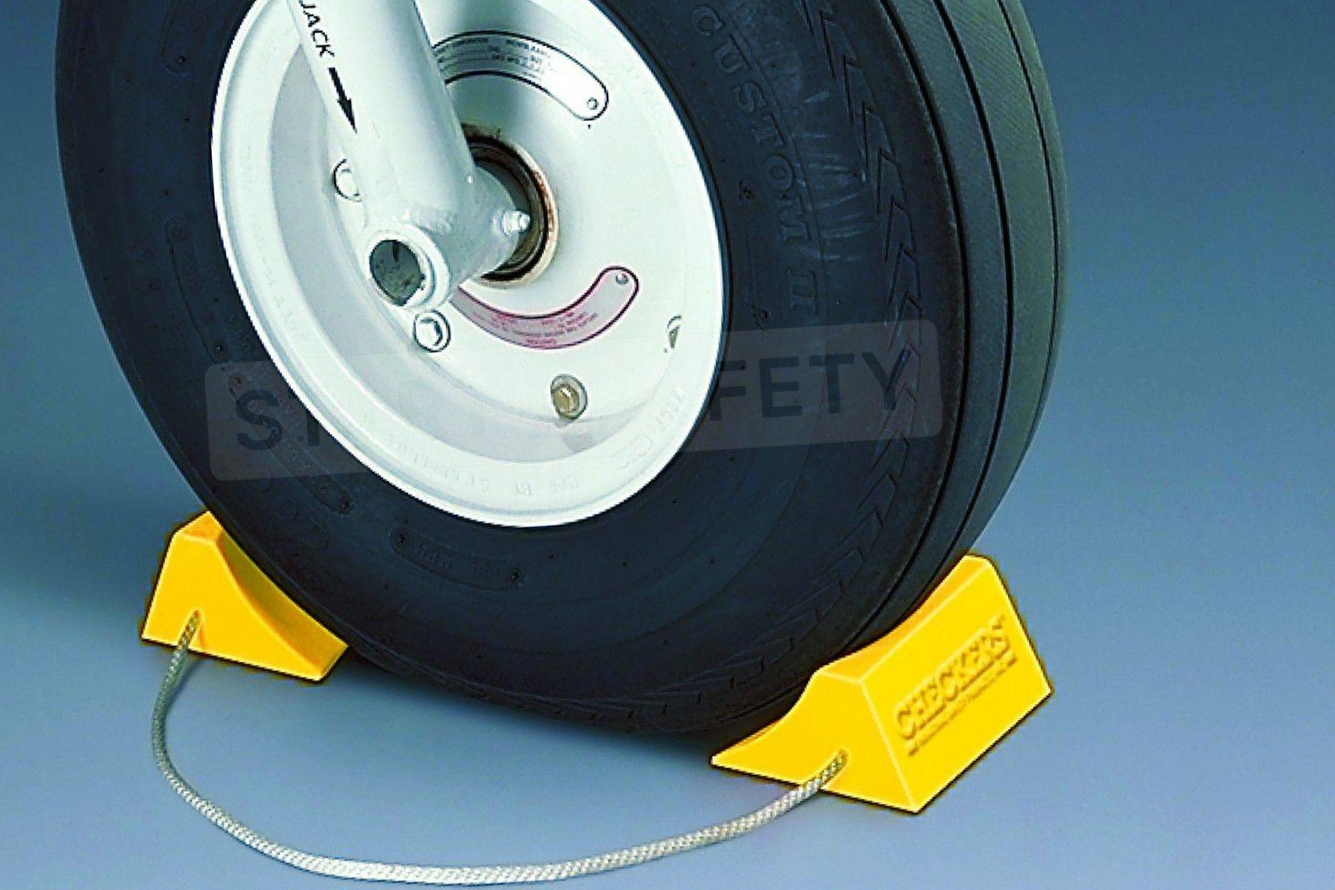chock: (696, 546, 1066, 830), (132, 496, 352, 695)
wheel: (30, 0, 1106, 777)
